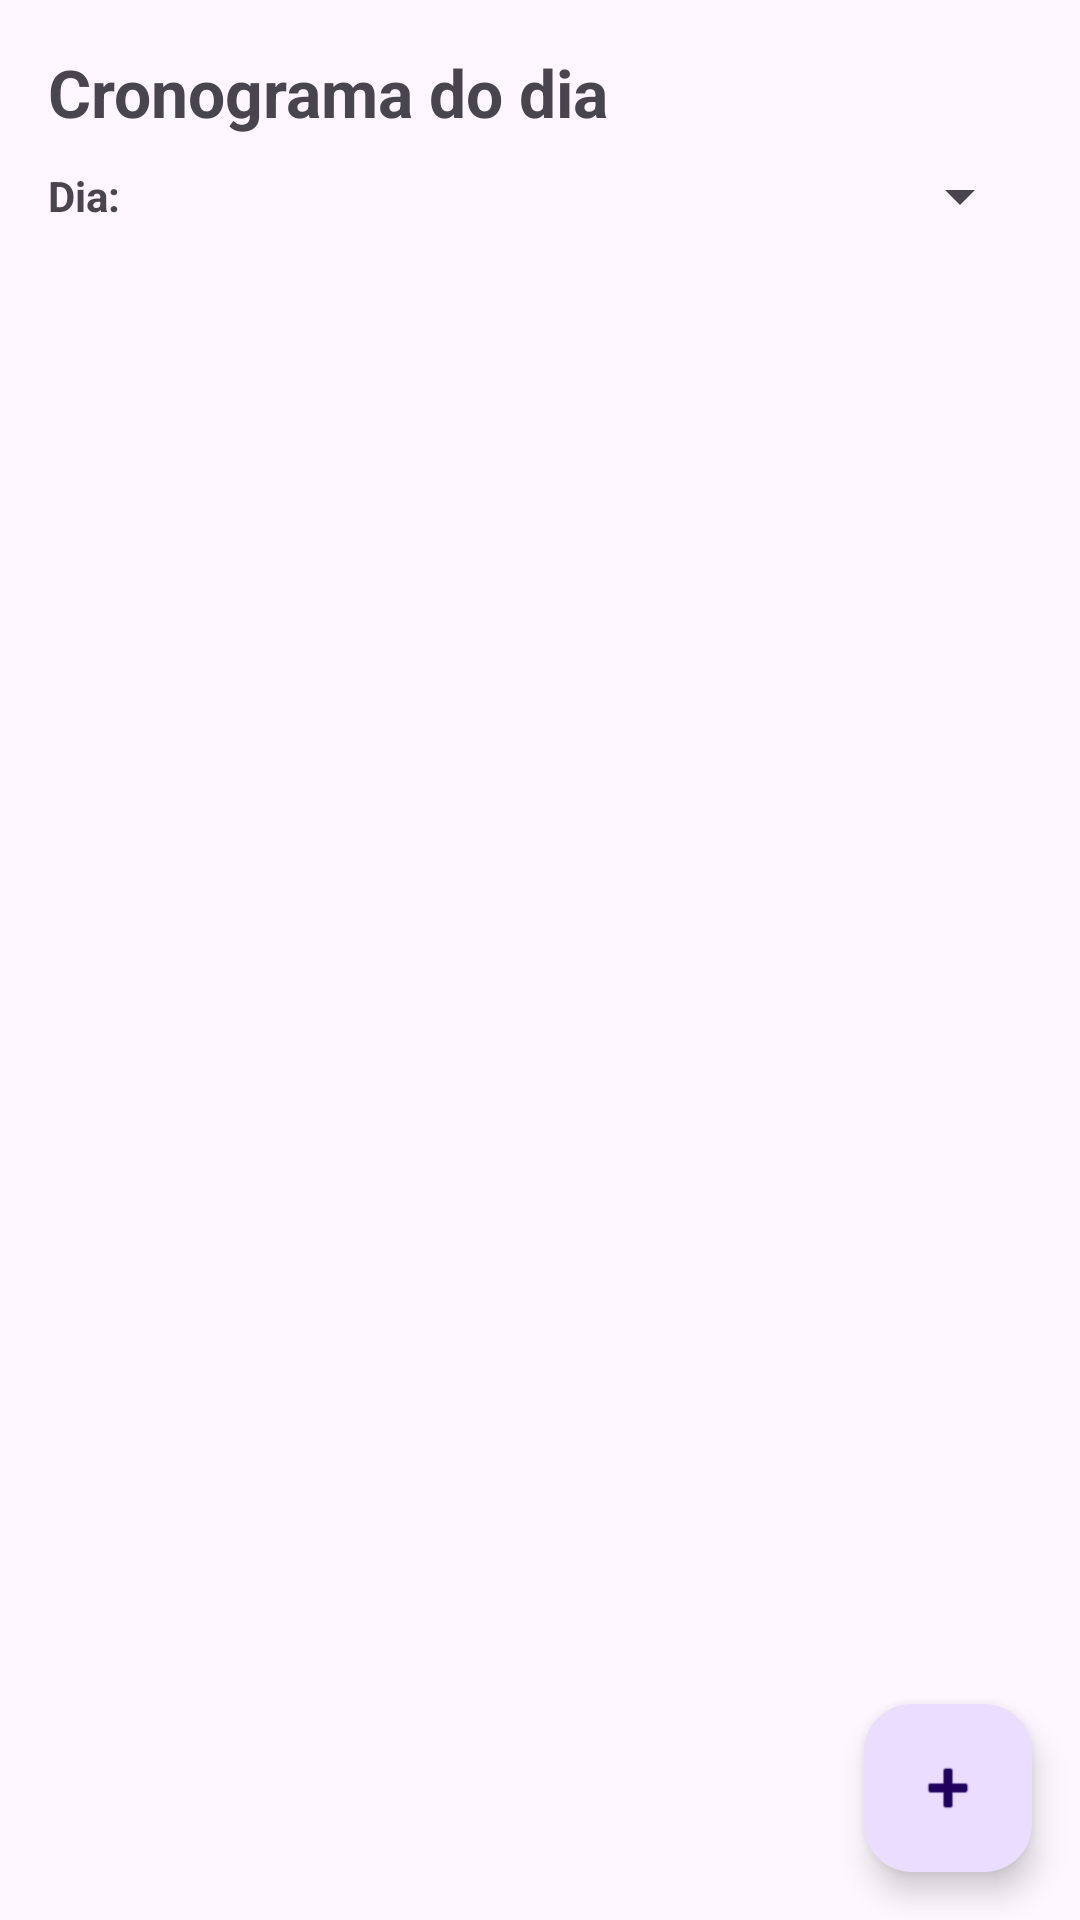

Screen size 1080w x 1920h. Icon name, then its box in pixels as [left=x1, top=y1, right=x2, bottom=y2]:
Novo bloco: [left=864, top=1704, right=1032, bottom=1872]
